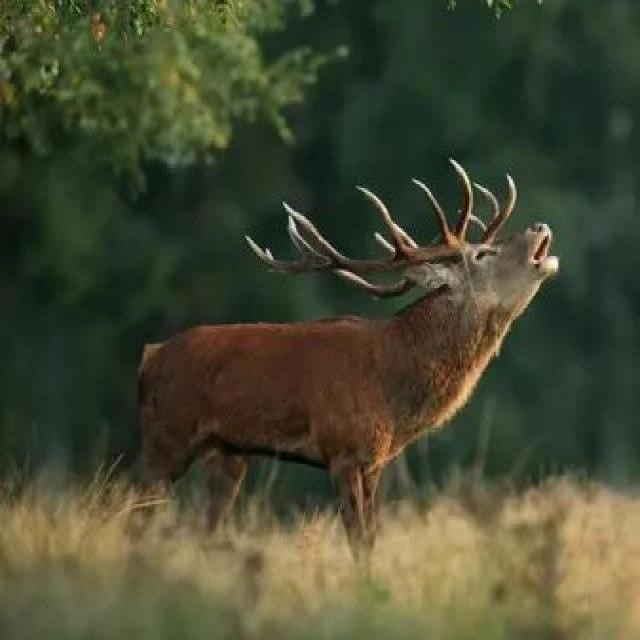deer: (98, 137, 632, 555)
